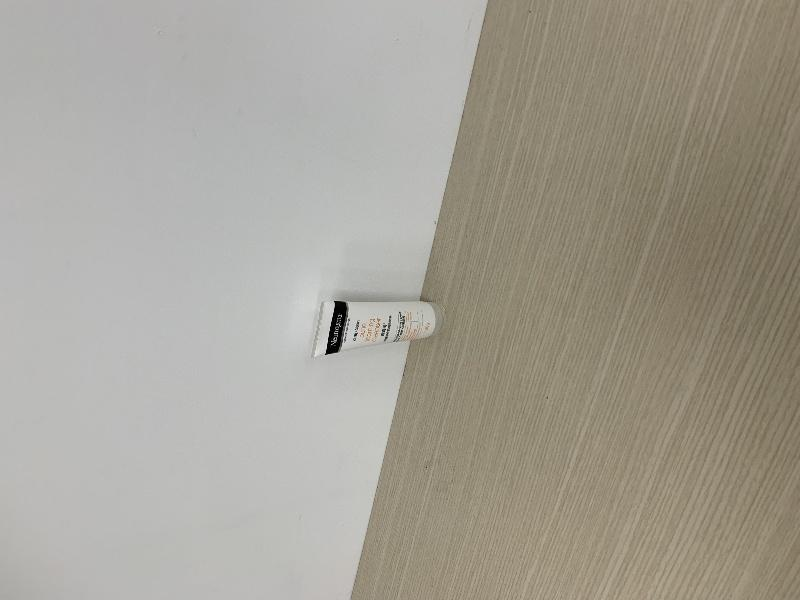AcneFoamingCleanser: (311, 301, 447, 359)
